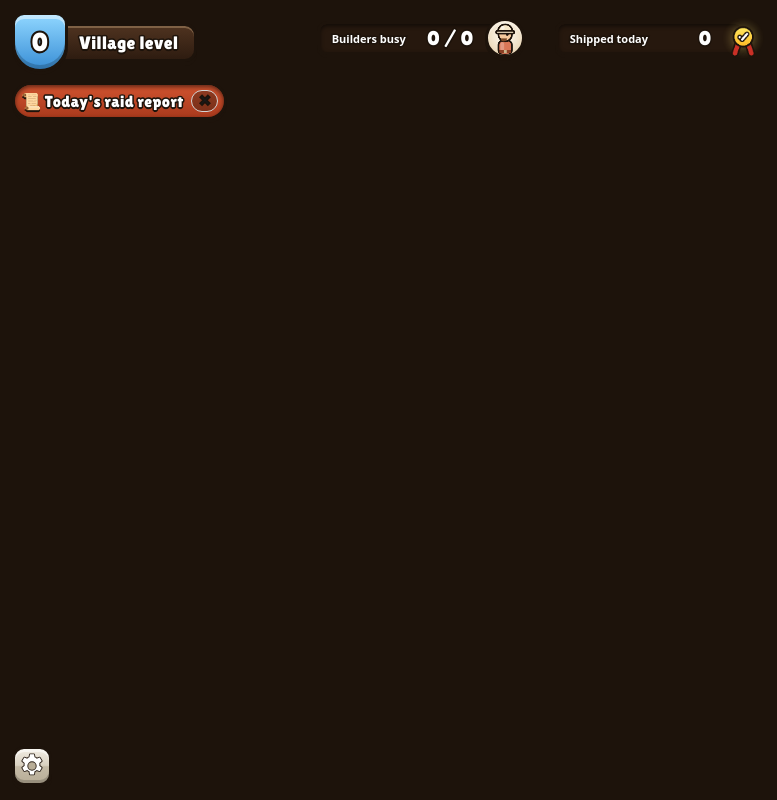
the evening offer of the raid report opens it, or is put off until tomorrow
This screenshot has width=777, height=800.
Later steps or results of the test are not shown.
Step 1. Click the button with test id "pill-raid" → coordinates (120, 101), box [12, 82, 227, 120]
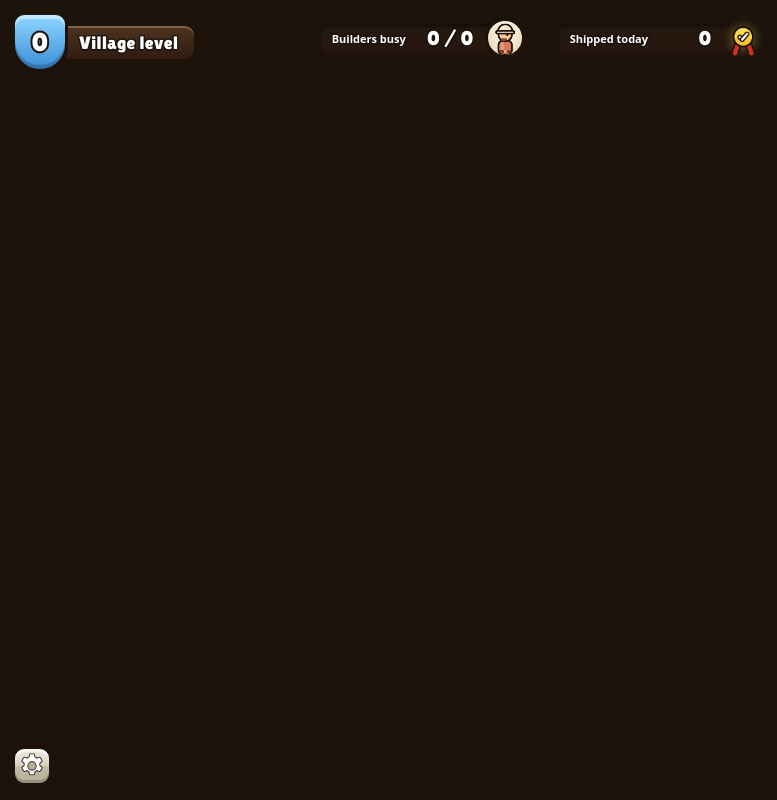
Expected: the button with test id "pill-raid" is gone
